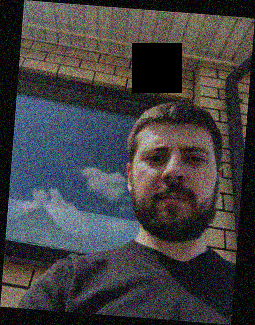without_mask: (135, 138, 217, 243)
